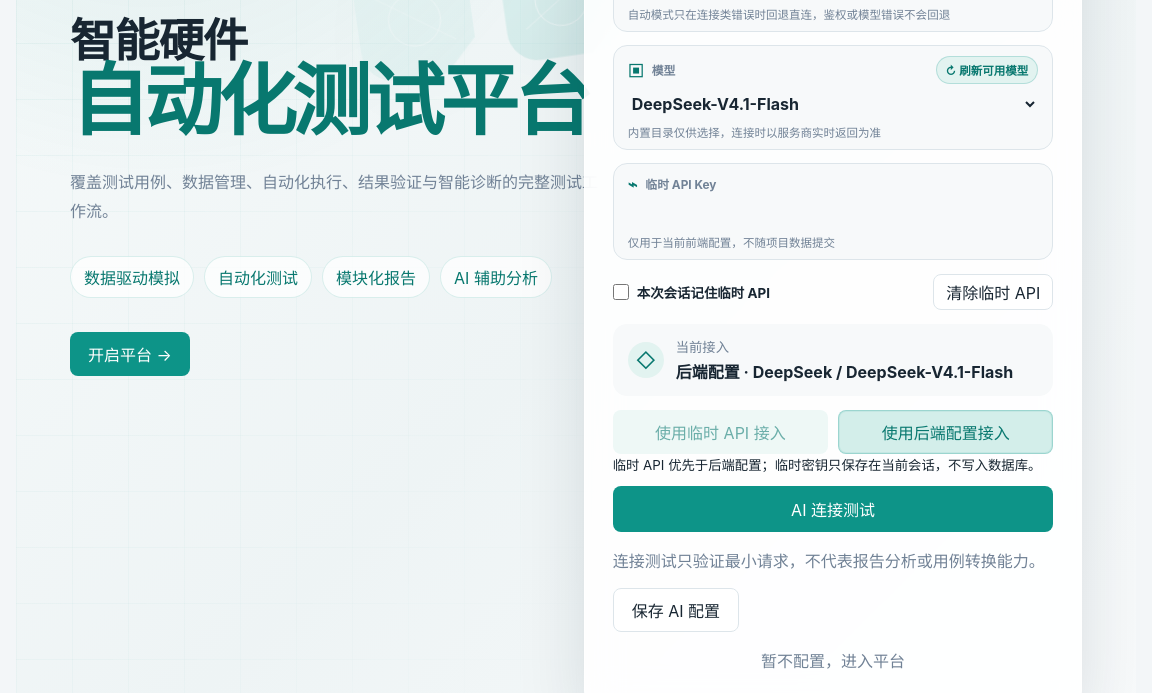
Test case: 从执行与结果进入人工页时携带当前测试组
(page scrolled)
Click the button "开启平台 →" at (130, 354), box [70, 332, 190, 376]
(page scrolled)
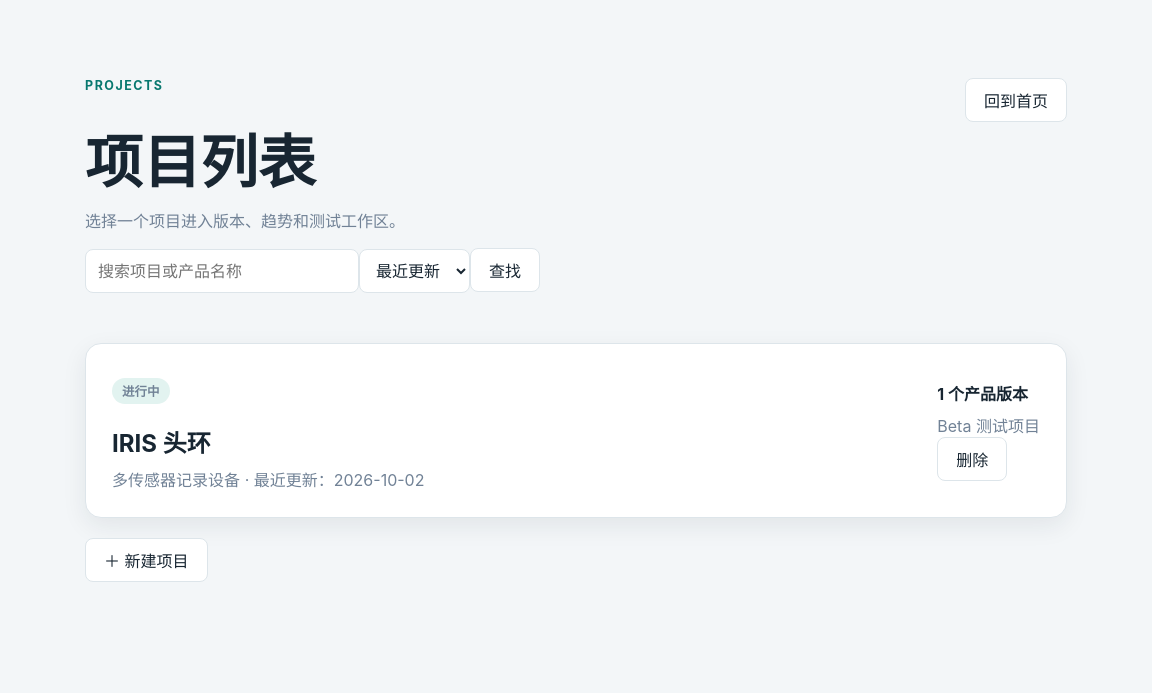
Click the button "进行中 IRIS 头环 多传感器记录设备 · 最近更新：2026-10-02 1 个产品版本 Beta 测试项目 删除" at (576, 431), box [85, 343, 1067, 518]
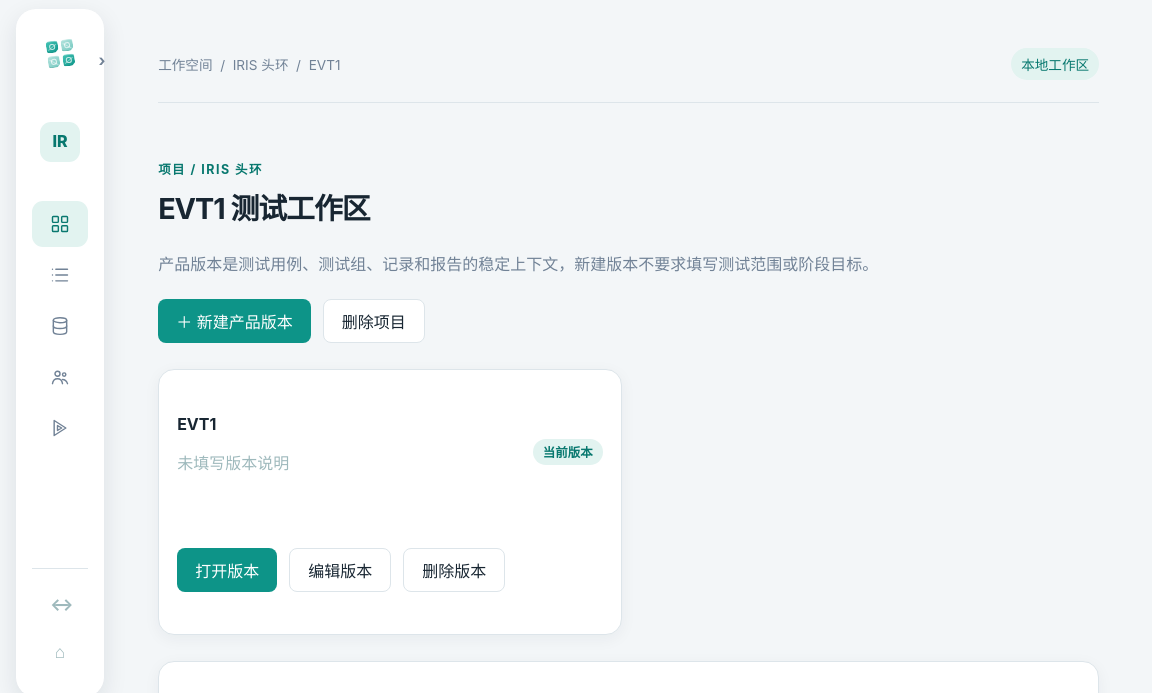
Click the button named "执行与结果" at (60, 428), box [32, 405, 88, 451]
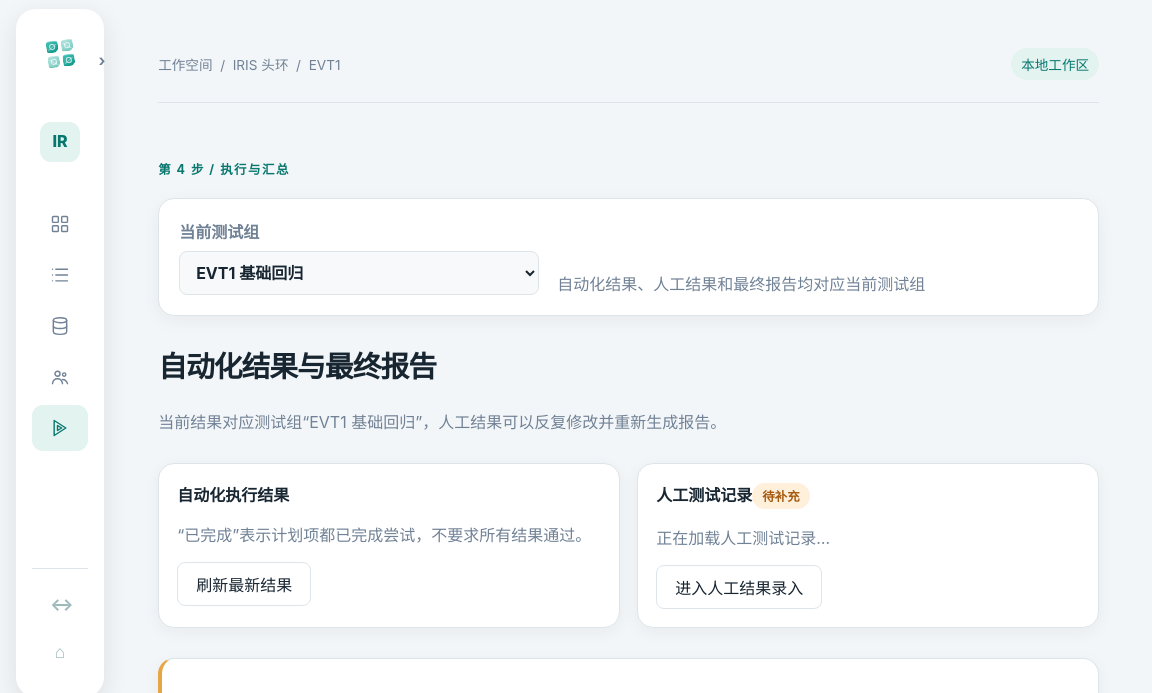
Click the button "进入人工结果录入" at (739, 587), box [656, 565, 822, 609]
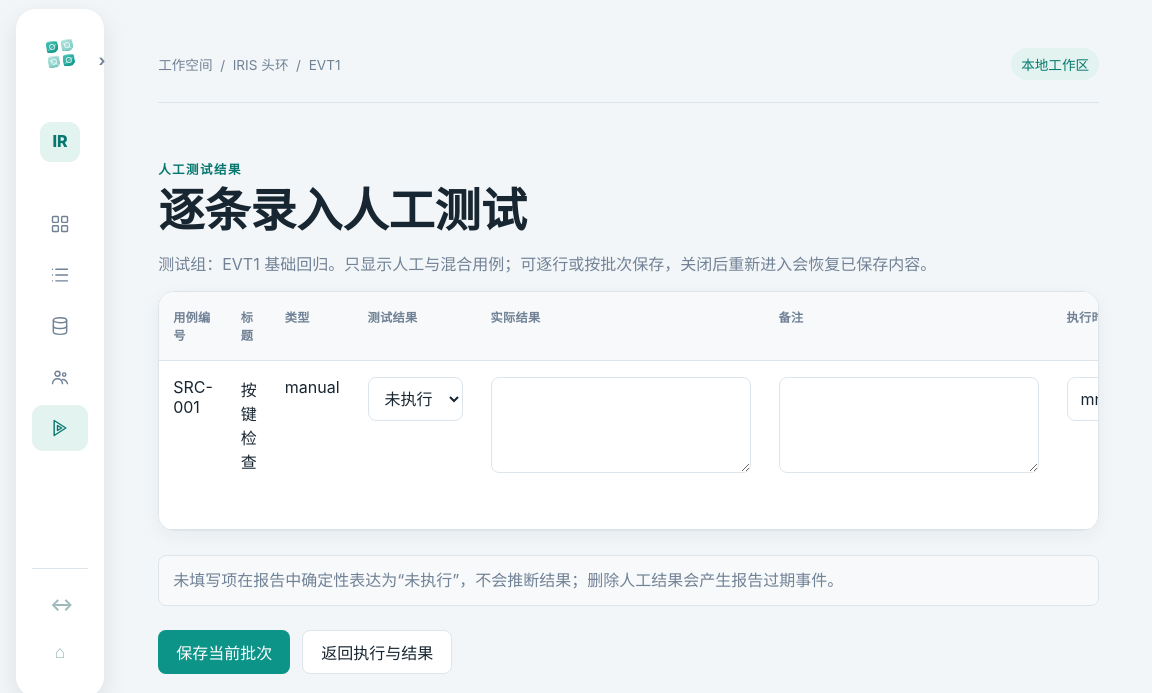
Expected: the heading "逐条录入人工测试" is shown, [158, 182, 527, 238]
Expected: the text "测试组：EVT1 基础回归。只显示人工与混合用例；可逐行或按批次保存，关闭后重新进入会恢复已保存内容。" is shown, [158, 254, 936, 274]
Expected: the text "SRC-001" is shown, [159, 360, 227, 529]
